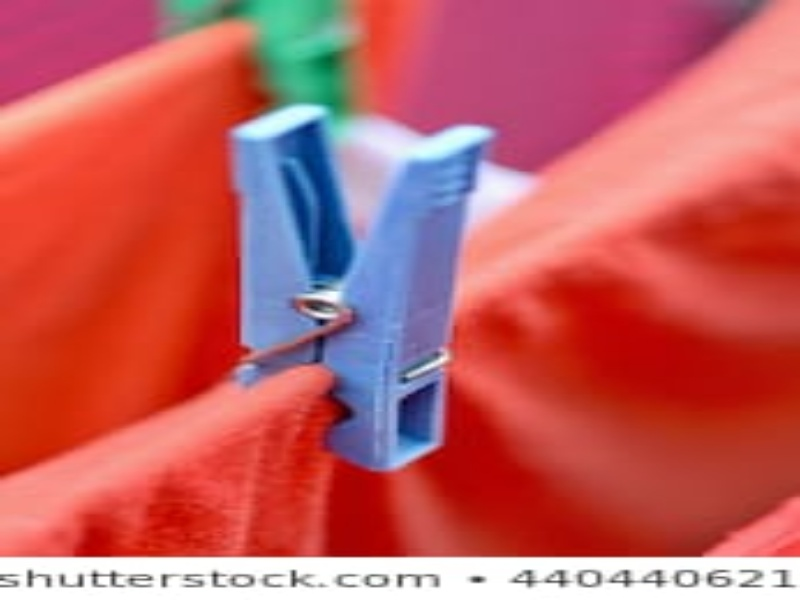plastic-peg: (223, 102, 494, 476)
